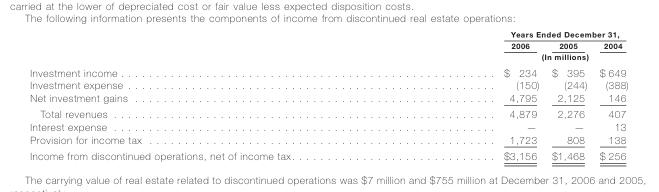table: (29, 29, 627, 161)
table column: (29, 29, 398, 161), (398, 29, 544, 161), (544, 29, 592, 161), (592, 29, 627, 161)
table column header: (29, 29, 627, 63)
table row: (29, 63, 627, 78), (29, 105, 627, 120), (29, 132, 627, 147), (29, 91, 627, 105), (29, 147, 627, 161), (29, 50, 627, 63), (29, 78, 627, 91), (29, 120, 627, 132), (29, 39, 627, 50), (29, 29, 627, 39)
table spanning cell: (398, 50, 627, 63), (398, 29, 627, 39)
